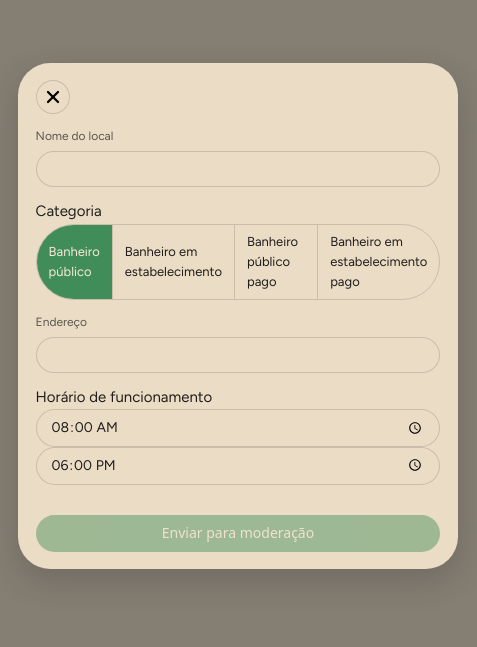
it: shows the moderation warning when moderate-submit responds with a rejected verdict
Type "Padaria Bom Pão" into the field labelled "Nome do local" at (238, 169), box [36, 151, 440, 187]
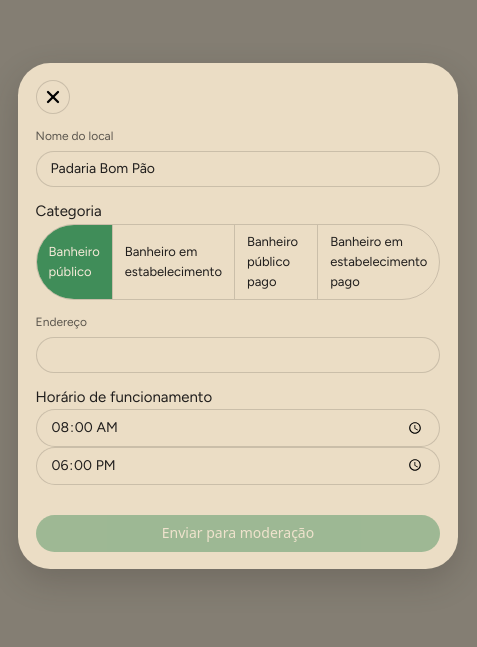
Type "Rua das Flores, 123" into the field labelled "Endereço" at (238, 355), box [36, 337, 440, 373]
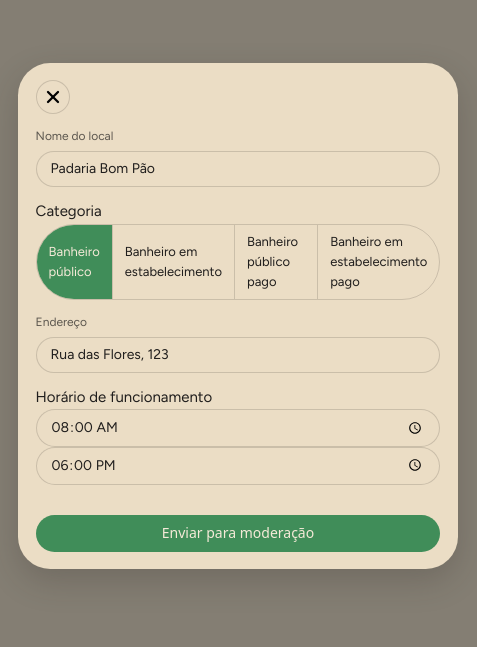
Click the button "Enviar para moderação" at (238, 534), box [36, 515, 440, 552]
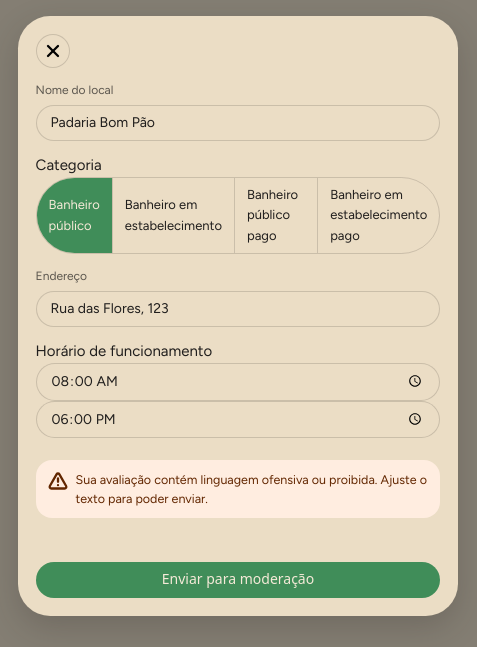
Now the text "Sua avaliação contém linguagem ofensiva ou proibida. Ajuste o texto para poder enviar." is shown, box [76, 472, 427, 506]
